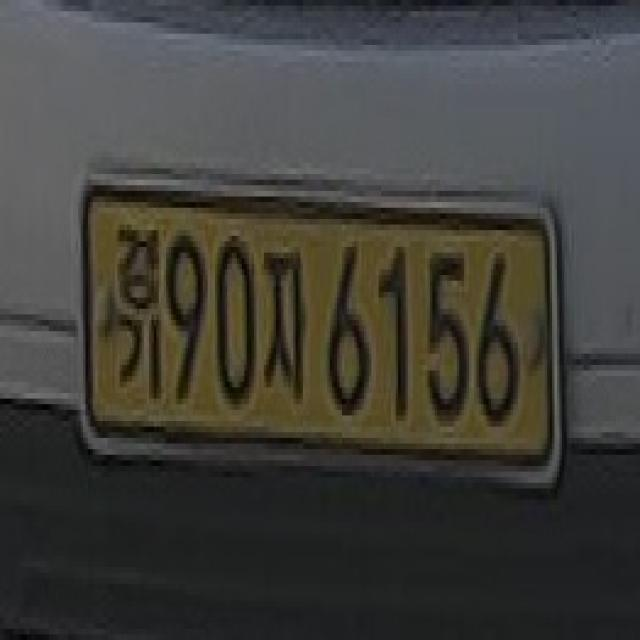plat: (76, 170, 566, 491)
